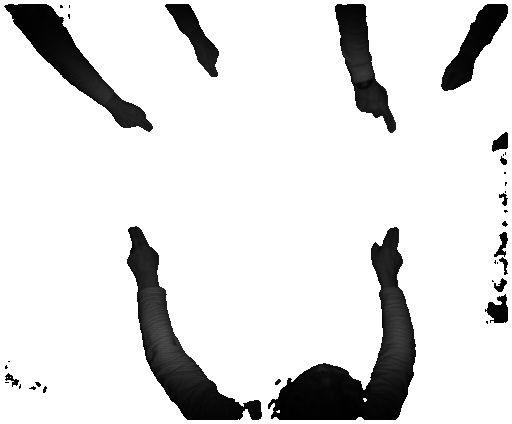fist: (440, 58, 477, 95)
hand: (120, 224, 167, 285), (368, 224, 407, 285), (353, 85, 399, 135), (110, 97, 159, 135), (193, 34, 223, 79)
